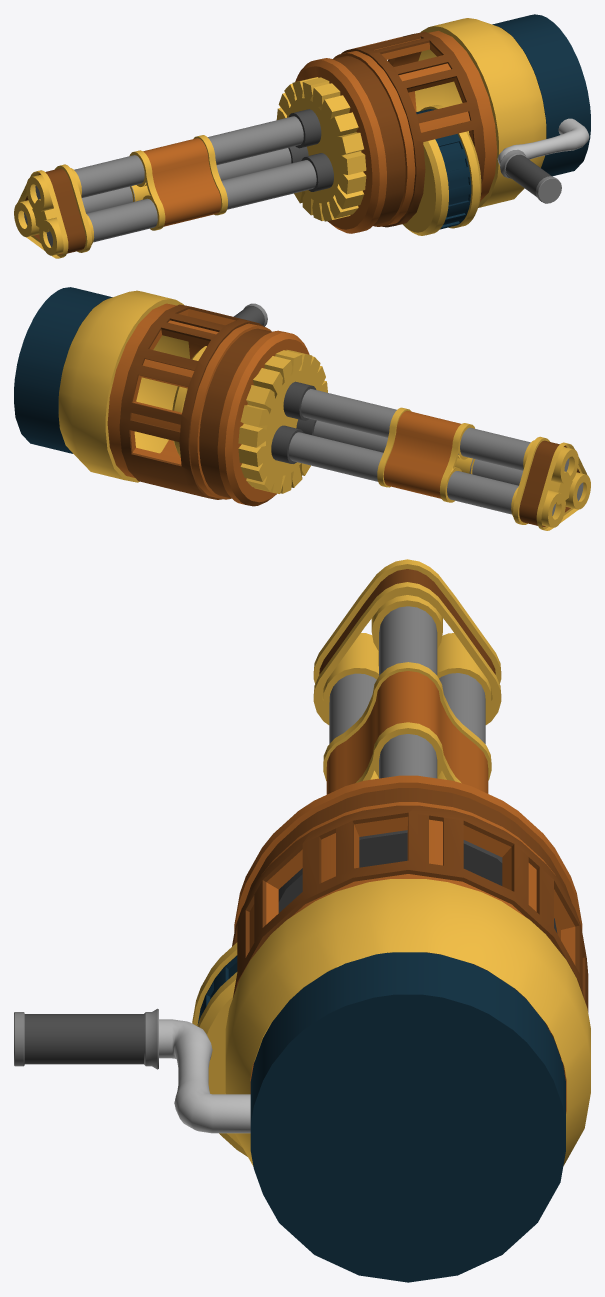
File: minik.fbx
3 renders of one model, top to bottom at view 1: azimuth 30°, elevation 25°; view 2: azimuth 150°, elevation 25°; view 3: azimuth 270°, elevation 25°, orthographic. The views are drawn at different scales.
Parts seen in each view (by area): view 1: Cylinder_021; view 2: Cylinder_021; view 3: Cylinder_021.
Boxes of the visible parts, <box> form: Cylinder_021: <box>14,14,590,258</box>; Cylinder_021: <box>14,287,590,530</box>; Cylinder_021: <box>14,559,590,1282</box>.
Bounding box in the file's own units: 5.88 × 1.86 × 2.91.
